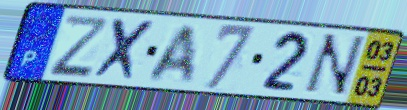2: (257, 29, 313, 95)
7: (205, 21, 259, 92)
A: (144, 23, 199, 85)
N: (298, 32, 369, 98)
X: (90, 16, 161, 84)
Z: (46, 12, 109, 77)
